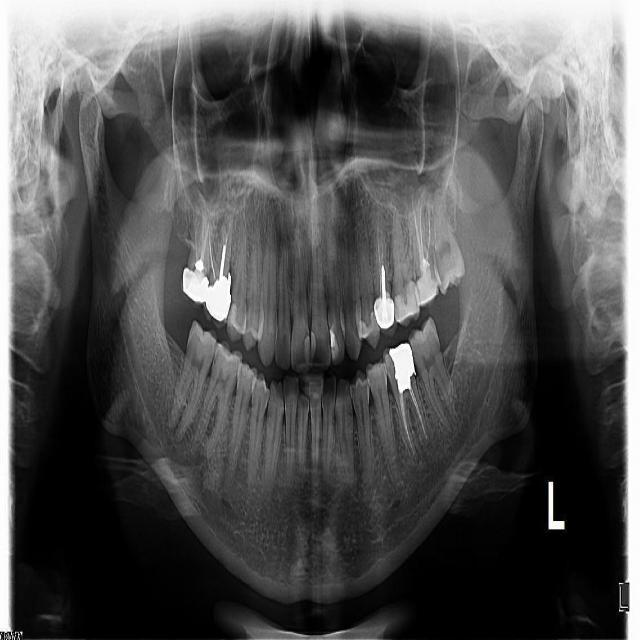71: (380, 265, 388, 322), (219, 245, 227, 277)
74: (408, 385, 429, 440), (410, 199, 425, 274), (398, 389, 413, 454), (419, 202, 432, 270), (207, 228, 218, 284), (200, 222, 209, 261), (378, 237, 382, 297), (201, 210, 205, 259), (195, 219, 198, 259)
NucleOSS Implant: (387, 340, 422, 393), (214, 271, 231, 296), (192, 259, 207, 274)
Sterngold Implant: (212, 352, 220, 367)
Straumann Implant: (406, 266, 446, 306), (389, 282, 423, 326), (356, 313, 381, 348), (330, 329, 340, 362), (304, 334, 311, 369), (228, 301, 237, 328), (310, 330, 316, 368)
Zimmer Implant: (197, 281, 236, 332), (172, 266, 216, 308), (370, 291, 400, 340)
